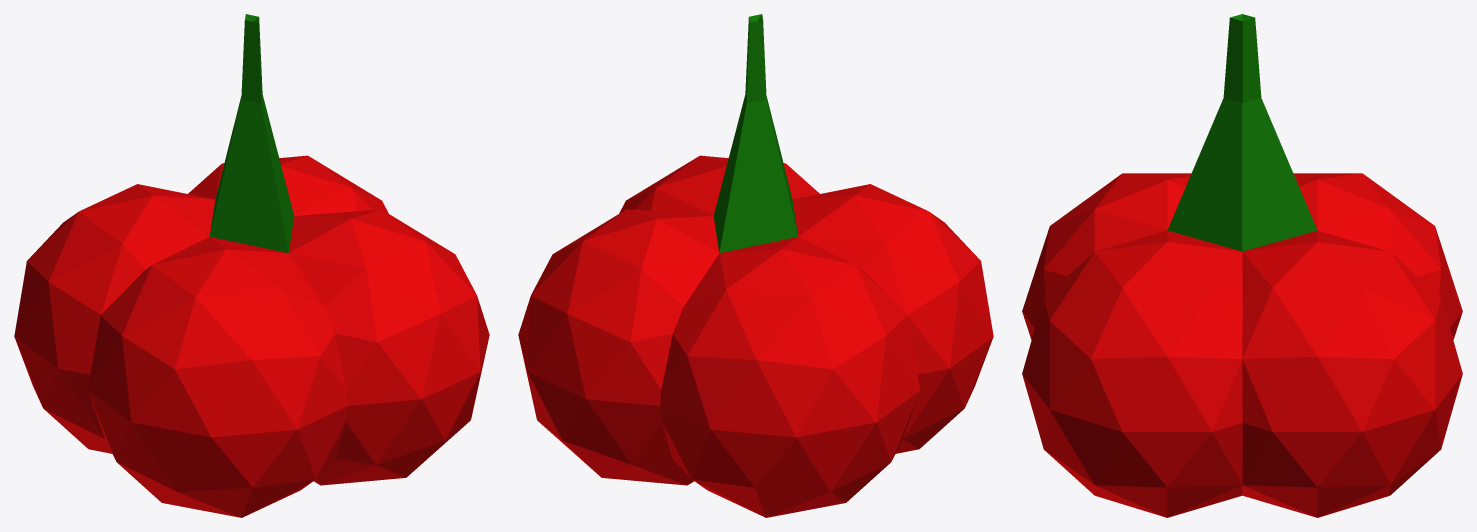
File: fruit.fbx
The picture shows the model from 3 angles, left to right: view 1: azimuth 30°, elevation 25°; view 2: azimuth 150°, elevation 25°; view 3: azimuth 270°, elevation 25°; orthographic projection. The views are drawn at different scales.
Visible parts, largest first — view 1: Icosphere; view 2: Icosphere; view 3: Icosphere.
Boxes of the visible parts, x1,y1,x2,y2 form: Icosphere: (14,14,489,517); Icosphere: (518,14,993,517); Icosphere: (1022,14,1462,517).
Bounding box in the file's own units: 5.83 × 6.94 × 6.07.
